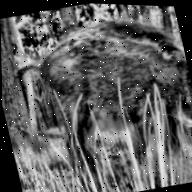boar: (22, 1, 192, 178)
